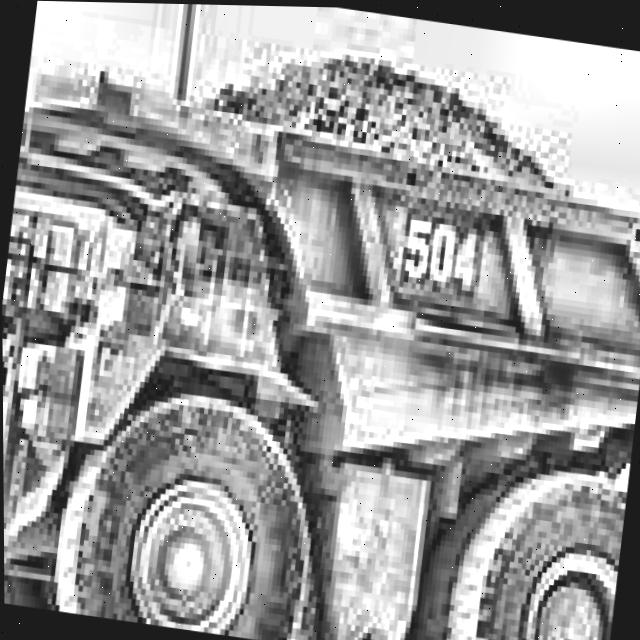dump_truck: (0, 8, 640, 640)
